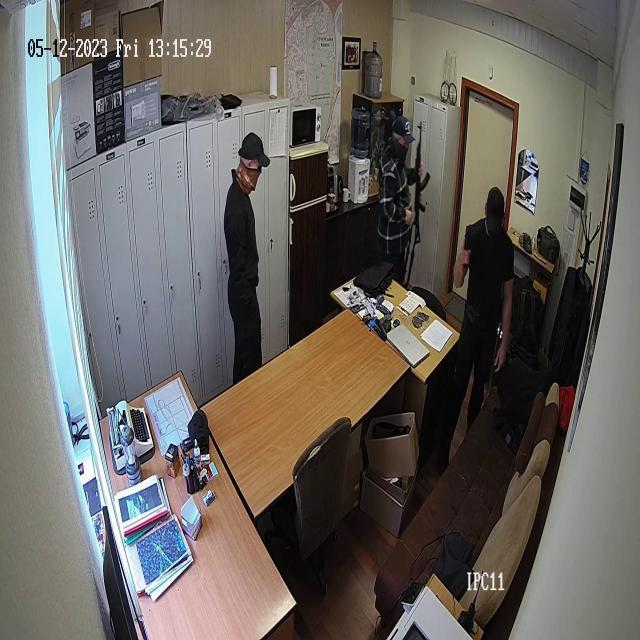pistol: (416, 122, 430, 240), (459, 228, 472, 272)
